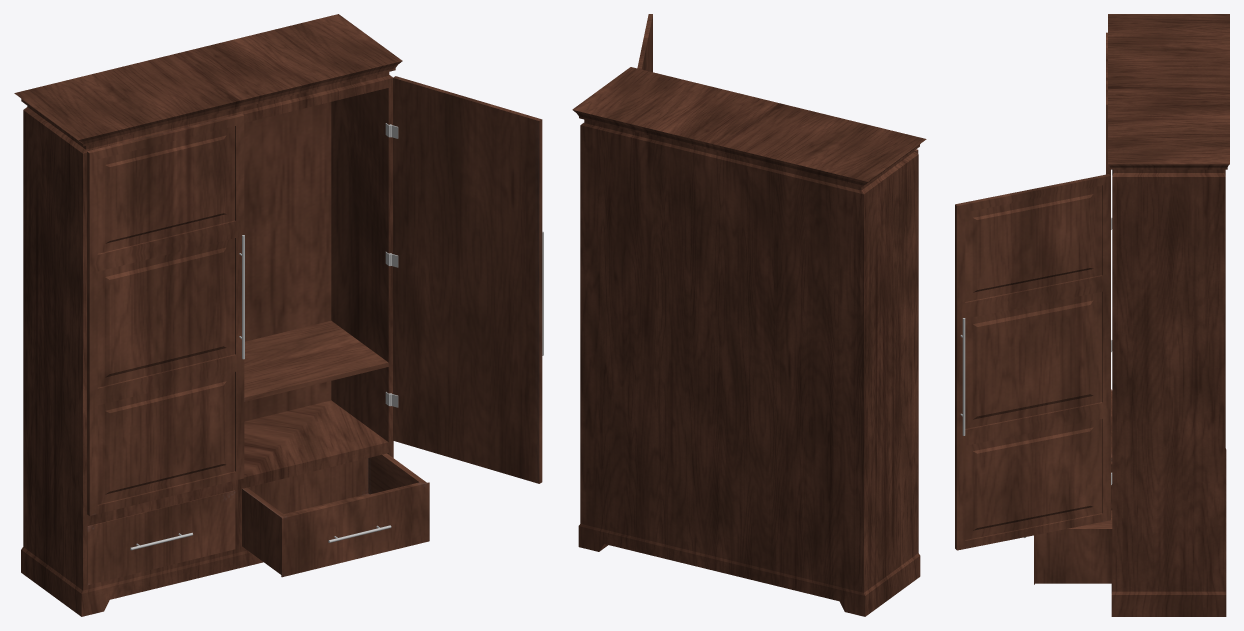
The model's file is cupboard.glb.
The picture shows the model from 3 angles, left to right: view 1: azimuth 30°, elevation 25°; view 2: azimuth 150°, elevation 25°; view 3: azimuth 270°, elevation 25°; orthographic projection. The views are drawn at different scales.
Visible parts, largest first — view 1: Object_2; view 2: Object_2; view 3: Object_2.
Part boxes in pixels (x1,y1,x2,y2): Object_2: [14, 14, 543, 616]; Object_2: [572, 14, 926, 616]; Object_2: [955, 14, 1229, 616].
Size of the model in its own units: 75.23 by 88.46 by 48.41.
Materials: 1 (1 with a texture image).
